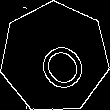O_NW: (22, 24, 87, 91)
